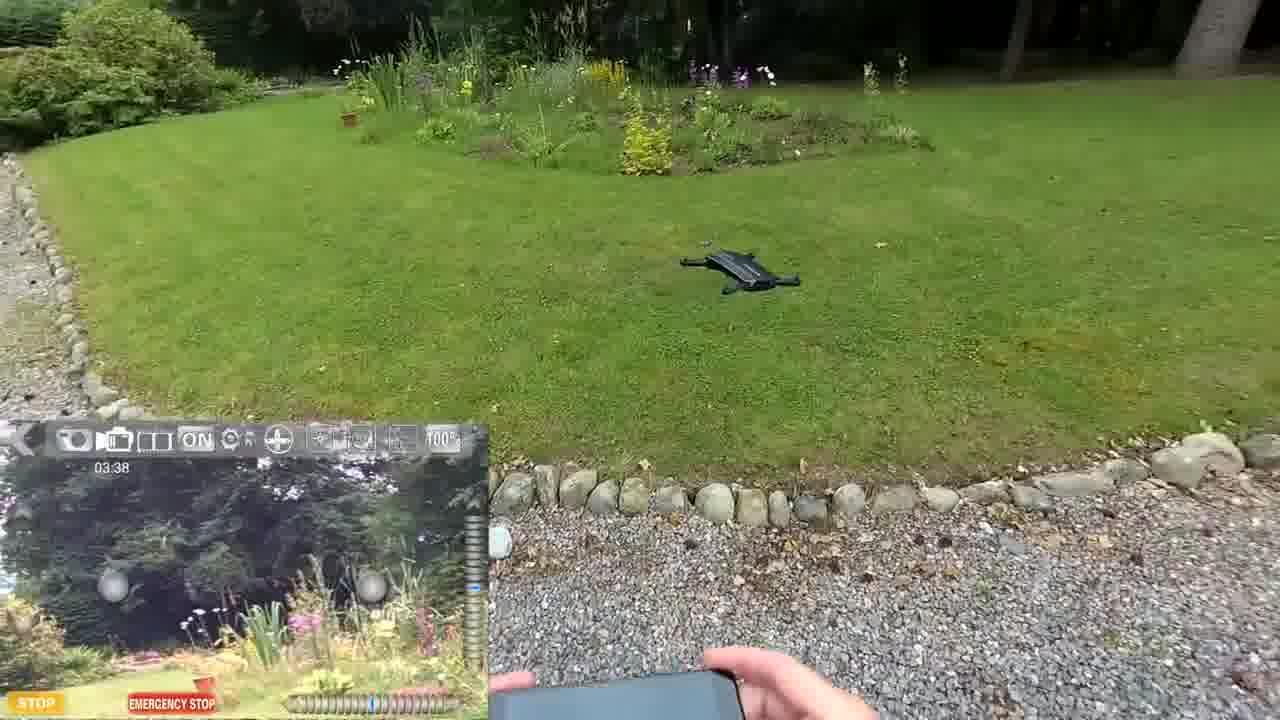drone: (690, 244, 803, 300)
